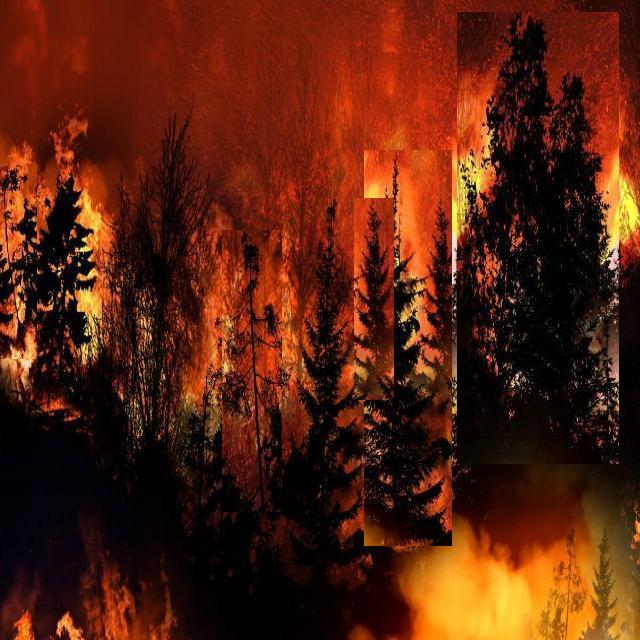tree: (457, 12, 619, 464), (114, 99, 220, 438), (364, 150, 452, 546), (284, 176, 362, 582), (222, 230, 282, 512), (30, 172, 96, 398), (354, 198, 394, 400), (0, 164, 37, 359)
